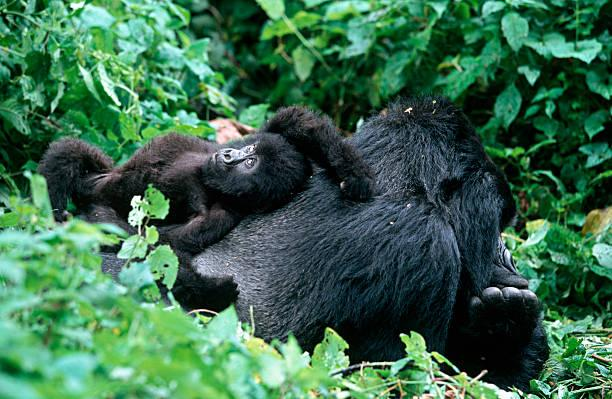goriile_montagne: (315, 85, 542, 384), (26, 86, 373, 241)
